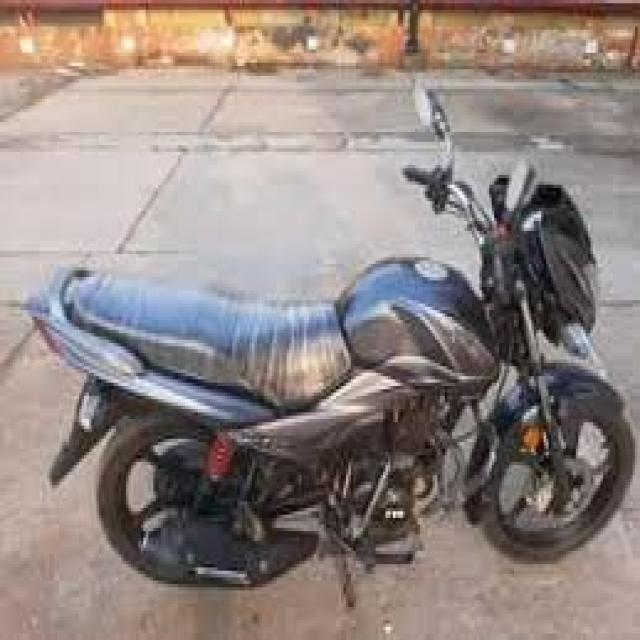bike: (22, 172, 633, 597)
